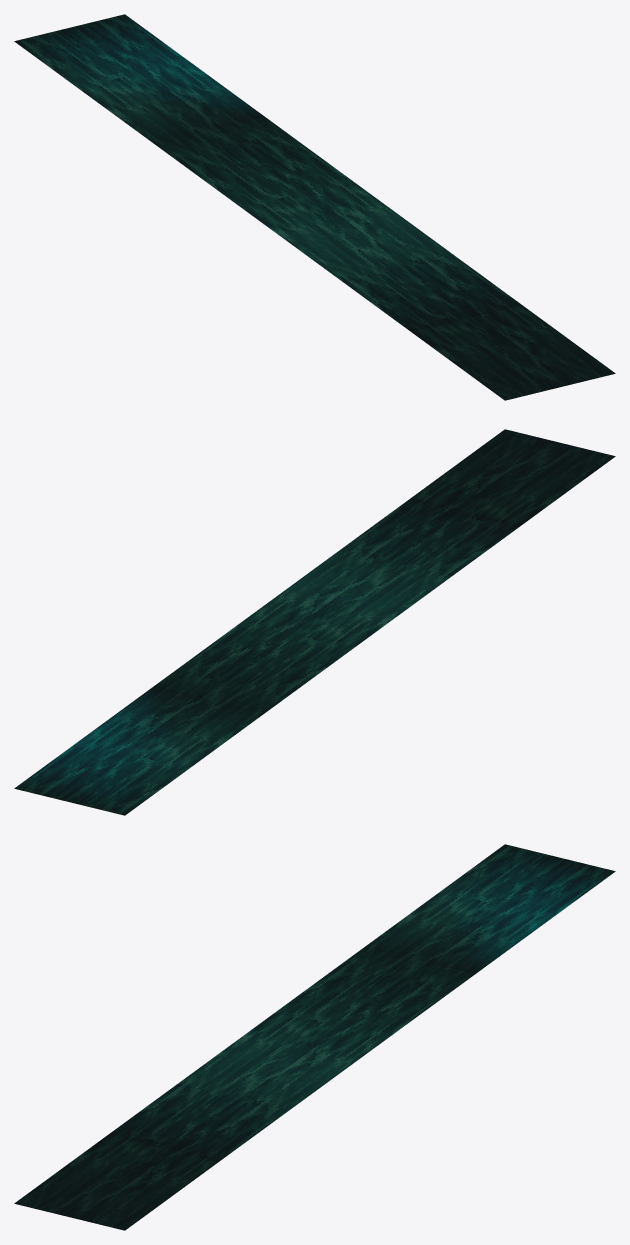
Rendered from ChicagoStealth_Alpha_88.glb.
3 views of the same model, one above another, from view 1: azimuth 30°, elevation 25°; view 2: azimuth 150°, elevation 25°; view 3: azimuth 330°, elevation 25° (orthographic).
Parts seen in each view (by area): view 1: ChicagoStealth_Alpha_88; view 2: ChicagoStealth_Alpha_88; view 3: ChicagoStealth_Alpha_88.
Part boxes in pixels (box(x1,y1,x2,y2)): ChicagoStealth_Alpha_88: box(14, 14, 615, 400); ChicagoStealth_Alpha_88: box(14, 429, 615, 815); ChicagoStealth_Alpha_88: box(14, 844, 615, 1230).
Size of the model in its own units: 34.25 by 6.39e-14 by 262.
Materials: 1 (1 with a texture image).
